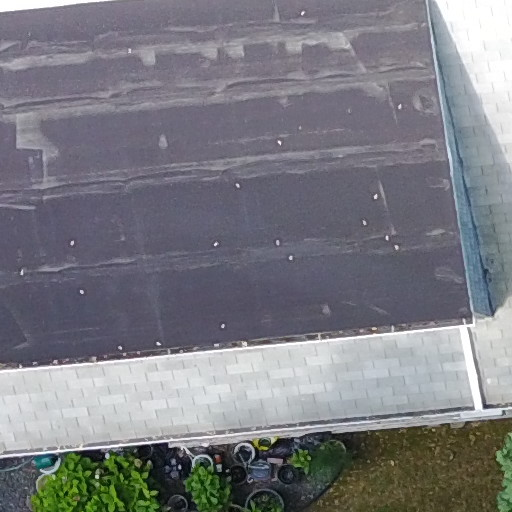flower pot: (239, 481, 287, 512), (233, 437, 265, 474), (186, 449, 218, 481), (27, 453, 67, 478), (160, 487, 198, 512)
